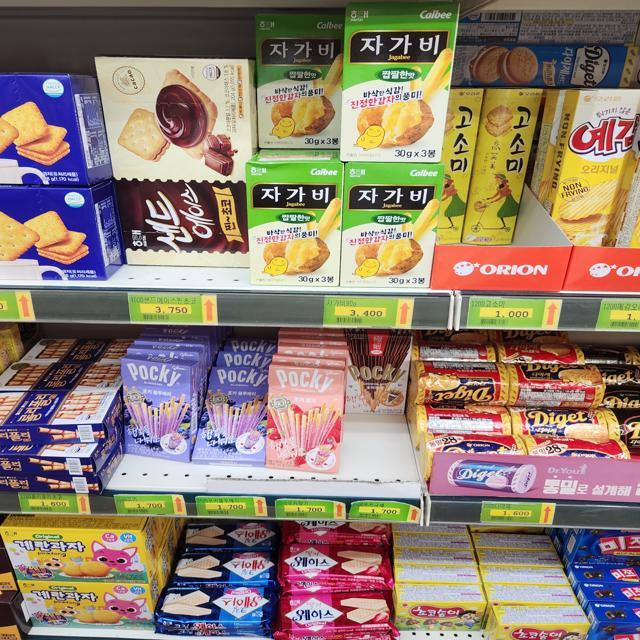product: (98, 57, 258, 269), (538, 81, 640, 275), (344, 2, 449, 175), (240, 153, 350, 292), (343, 153, 440, 301), (252, 9, 346, 156), (463, 83, 541, 247), (201, 355, 278, 473), (116, 352, 192, 470), (272, 364, 343, 479), (2, 531, 150, 586), (343, 329, 414, 427), (23, 581, 156, 629), (415, 357, 508, 409), (511, 401, 624, 443), (280, 541, 393, 581), (280, 591, 392, 629), (398, 593, 481, 631)
